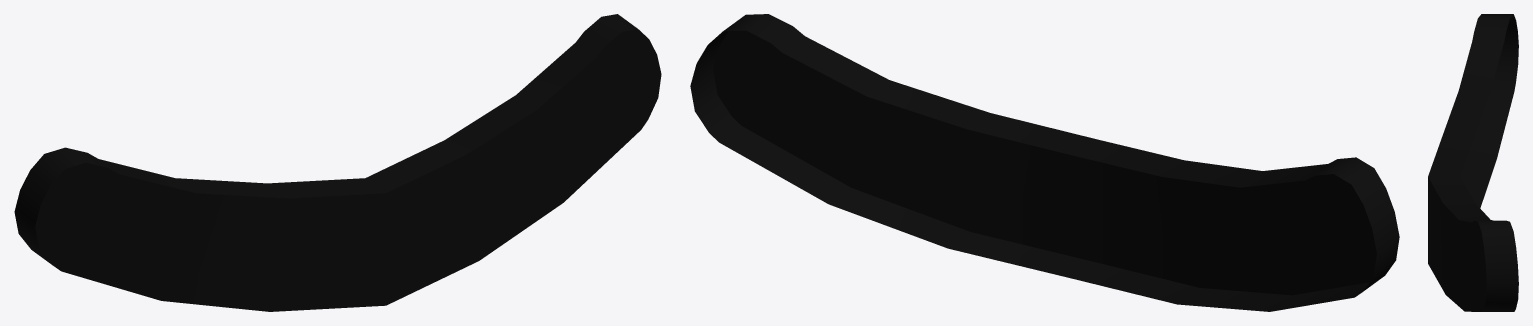
Rendered from Mouth_Smile_01.fbx.
3 renders of one model, left to right at view 1: azimuth 30°, elevation 25°; view 2: azimuth 150°, elevation 25°; view 3: azimuth 270°, elevation 25°, orthographic. The views are drawn at different scales.
Visible parts, largest first — view 1: Mouth_Smile_01; view 2: Mouth_Smile_01; view 3: Mouth_Smile_01.
Part boxes in pixels (x1=…): Mouth_Smile_01: x1=14, y1=14, x2=661, y2=311; Mouth_Smile_01: x1=690, y1=14, x2=1399, y2=311; Mouth_Smile_01: x1=1428, y1=14, x2=1518, y2=311.
Bounding box in the file's own units: 40.96 × 11.56 × 6.62.
